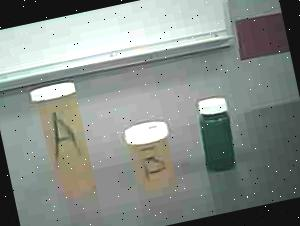Bottle A: (24, 74, 113, 204)
Bottle B: (120, 112, 185, 202)
Bottle C: (181, 87, 259, 182)
